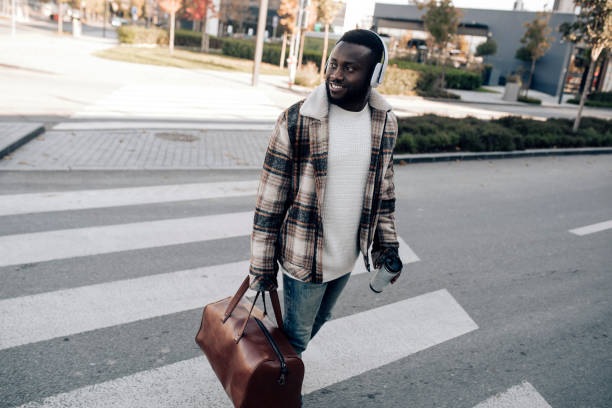yaya: (215, 2, 437, 407)
